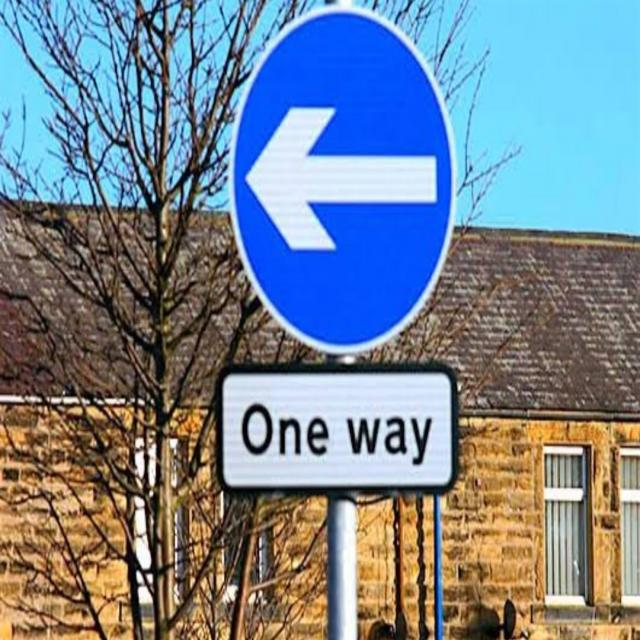Turn Left: (233, 9, 453, 361)
